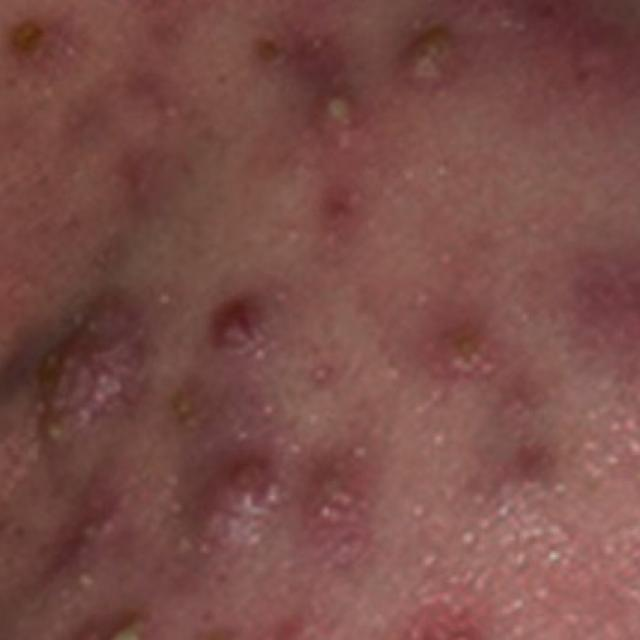acne: (0, 285, 579, 640), (0, 0, 631, 218)
